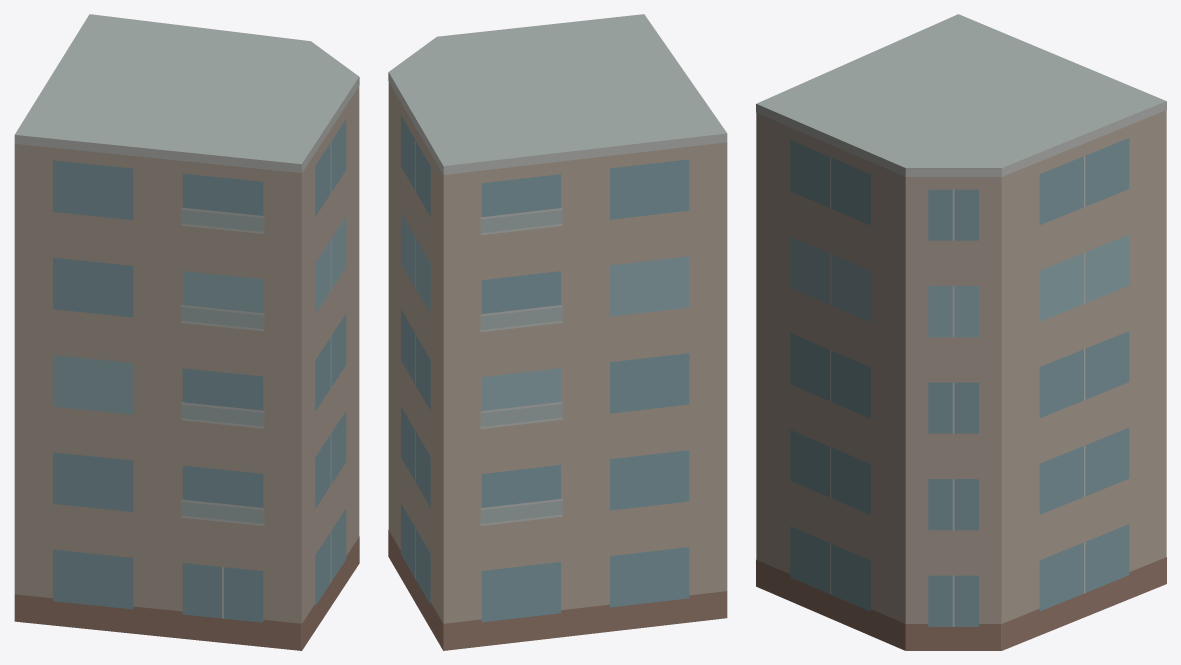
Rendered from survey-upis-32943601.glb.
3 views of the same model, side by side, from view 1: azimuth 30°, elevation 25°; view 2: azimuth 150°, elevation 25°; view 3: azimuth 270°, elevation 25° (orthographic).
Visible parts, largest first — view 1: survey-upis-32943601.tmp; view 2: survey-upis-32943601.tmp; view 3: survey-upis-32943601.tmp.
Boxes of the visible parts, <box> form: survey-upis-32943601.tmp: <box>14,14,359,650</box>; survey-upis-32943601.tmp: <box>388,14,727,650</box>; survey-upis-32943601.tmp: <box>756,14,1166,650</box>.
Bounding box in the file's own units: 9.12 × 13.3 × 10.26.
